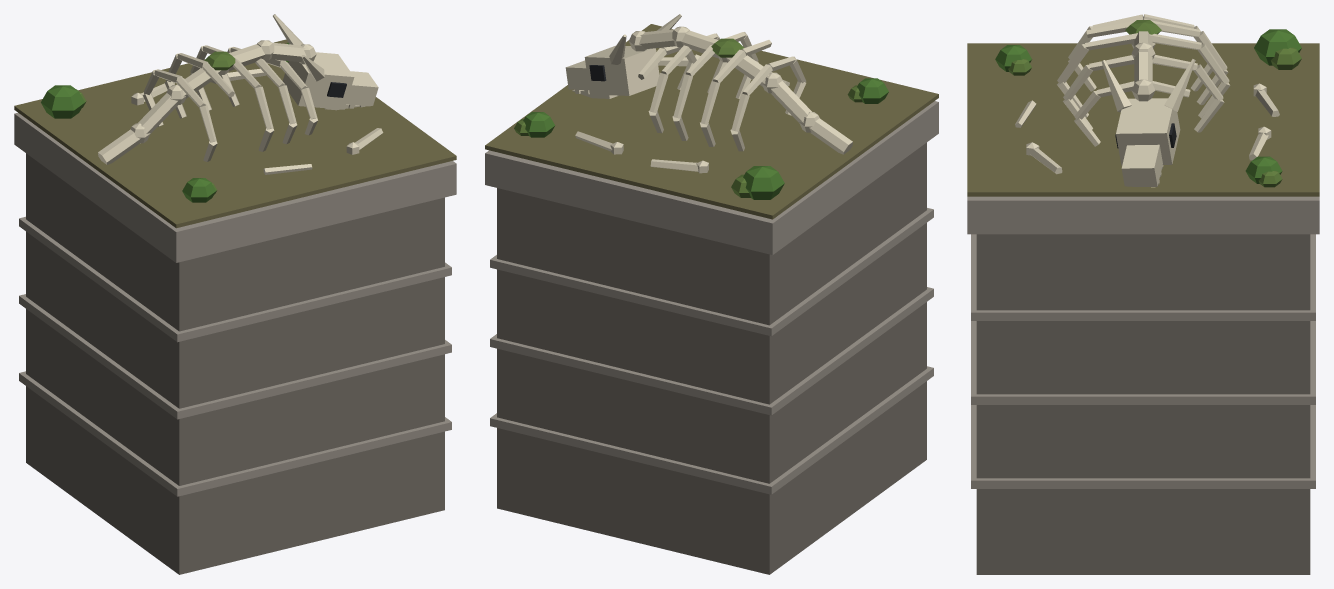
Rendered from decor_beast_skeleton.glb.
3 views of the same model, side by side, from view 1: azimuth 30°, elevation 25°; view 2: azimuth 150°, elevation 25°; view 3: azimuth 270°, elevation 25° (orthographic). The views are drawn at different scales.
Parts seen in each view (by area): view 1: decor_beast_skeleton; view 2: decor_beast_skeleton; view 3: decor_beast_skeleton.
Part boxes in pixels (x1=…): decor_beast_skeleton: x1=14, y1=14, x2=456, y2=574; decor_beast_skeleton: x1=485, y1=14, x2=938, y2=574; decor_beast_skeleton: x1=967, y1=14, x2=1319, y2=574.
Bounding box in the file's own units: 3.8 × 5.7 × 3.8.
